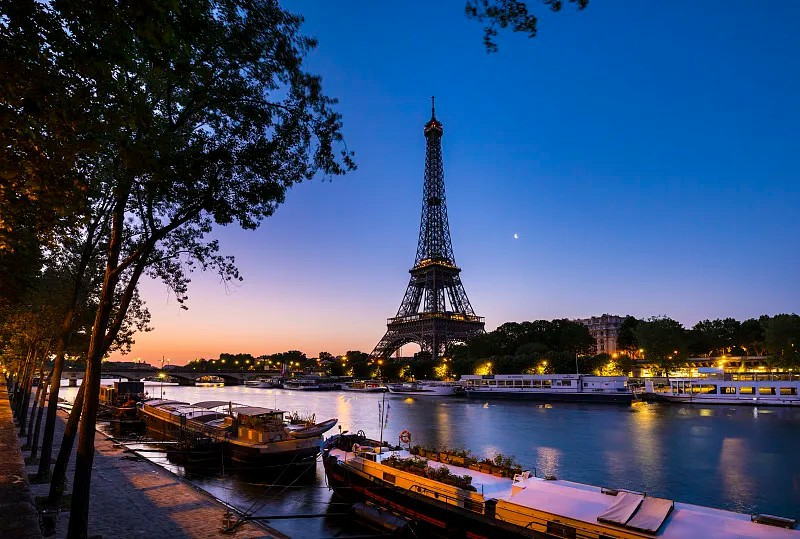Eiffel: (369, 97, 489, 363)
